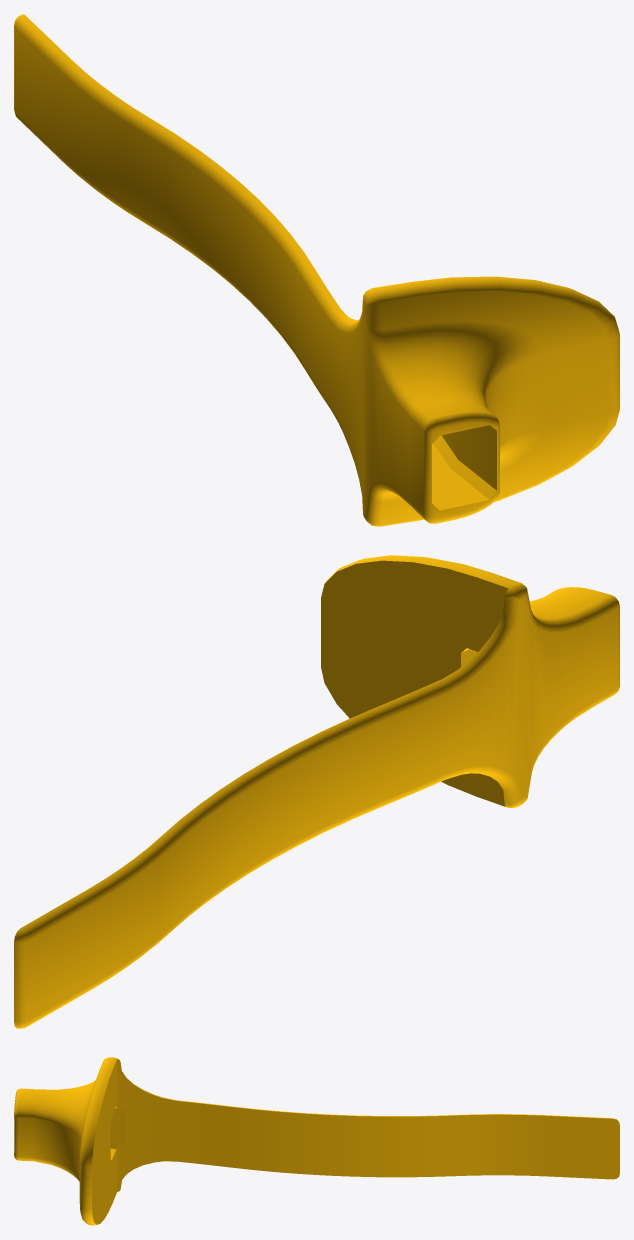
File: original-7.obj
The picture shows the model from 3 angles, top to bottom: view 1: azimuth 30°, elevation 25°; view 2: azimuth 150°, elevation 25°; view 3: azimuth 270°, elevation 25°; orthographic projection. The views are drawn at different scales.
Size of the model in its own units: 0.3949 by 0.3488 by 1.42.
